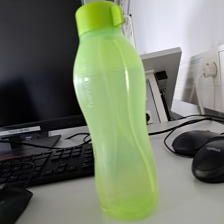bottle: (72, 0, 160, 224)
